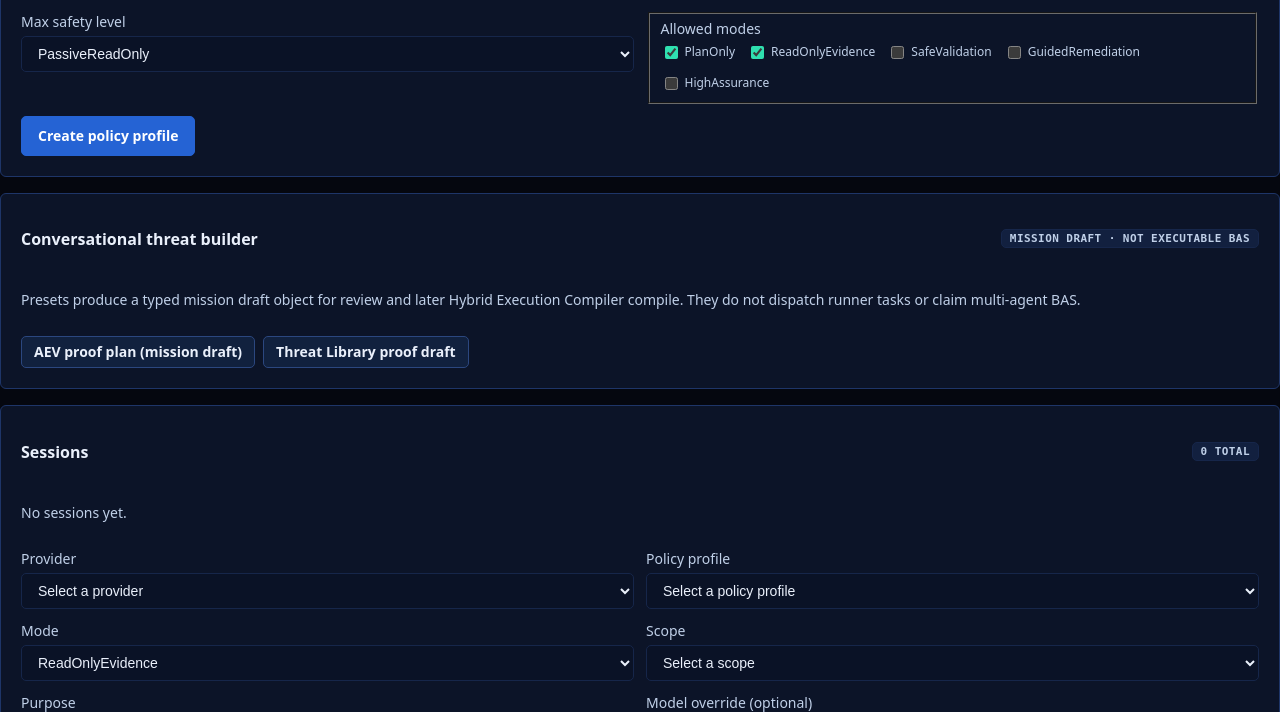
ModelGatewayWorkbench › creates a typed conversational mission draft (not executable BAS)
(page scrolled)
Click the button "AEV proof plan (mission draft)". click: (138, 352)
box: [21,336,255,368]
(page scrolled)
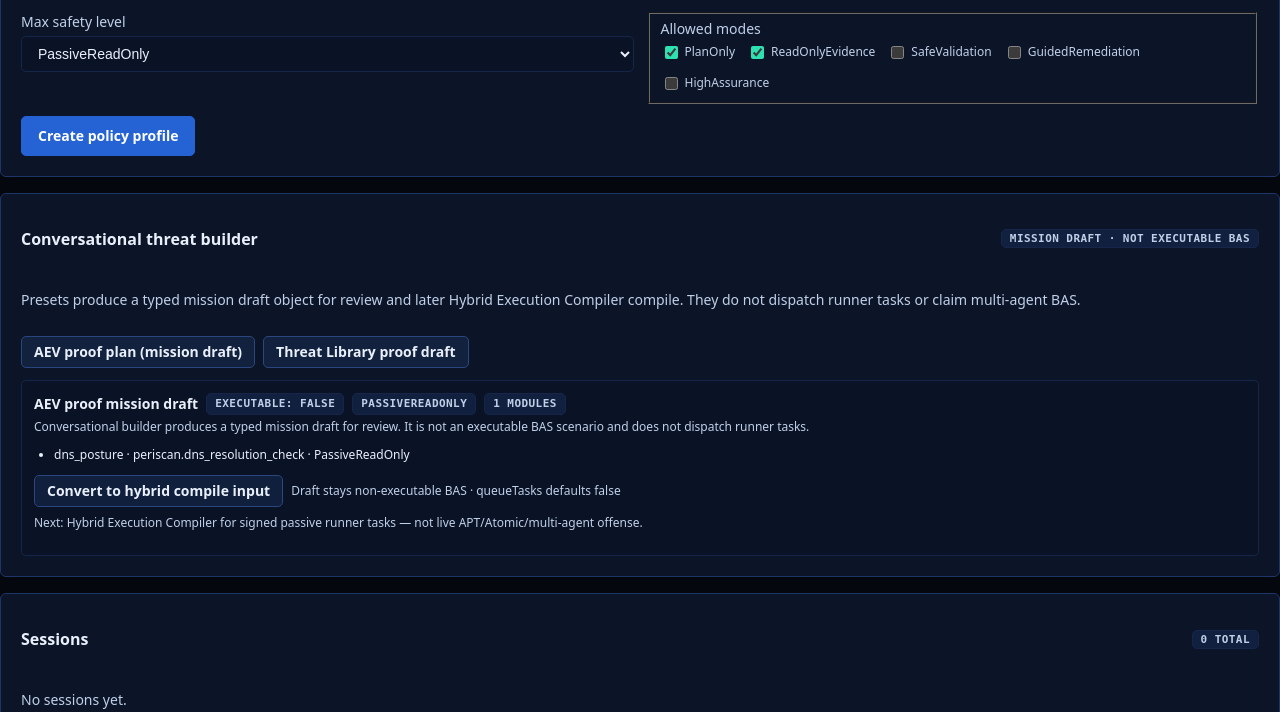
Result: the element with test id "conversational-mission-draft" is shown at [21,380,1259,556]
Result: the text "executable: false" is shown at [206,393,344,415]
Result: the list item "dns_posture" is shown at [54,446,124,463]
